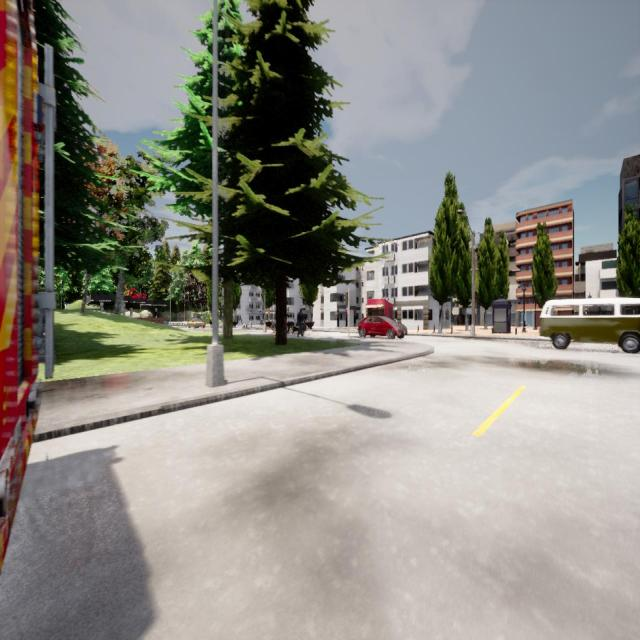Pedestrian: (296, 308, 304, 337)
Vehicle: (0, 0, 55, 569), (541, 296, 640, 354), (357, 315, 407, 341), (272, 321, 296, 334), (187, 318, 206, 329)
traffic_light: (343, 291, 348, 307)
